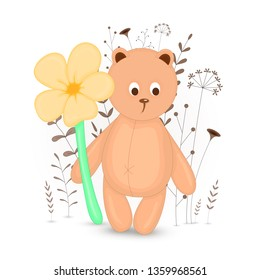animal: (69, 48, 204, 225)
flower: (31, 53, 116, 236), (179, 65, 224, 228)
